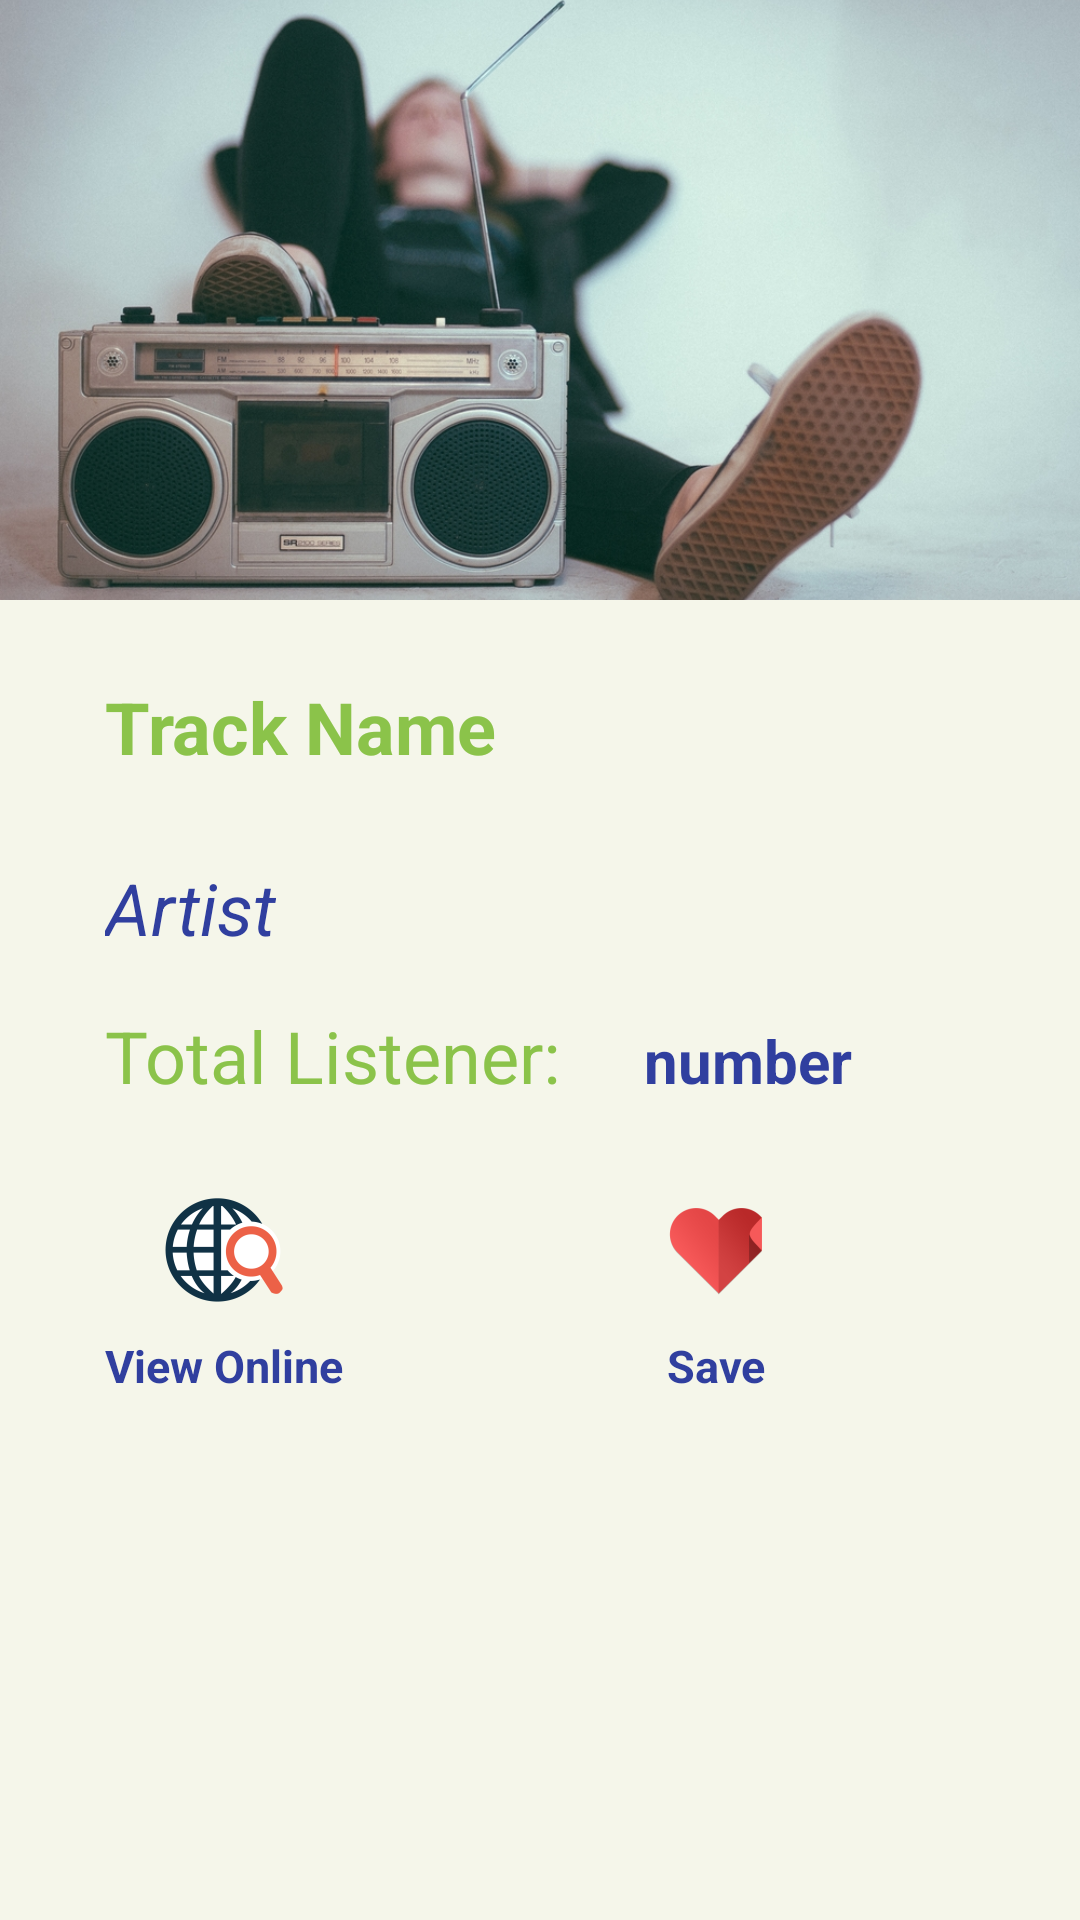

Screen size 1080 × 1920. Icon name, then its box in pixels as rect(x1, y1, x2, y2):
like: rect(670, 1208, 762, 1294)
